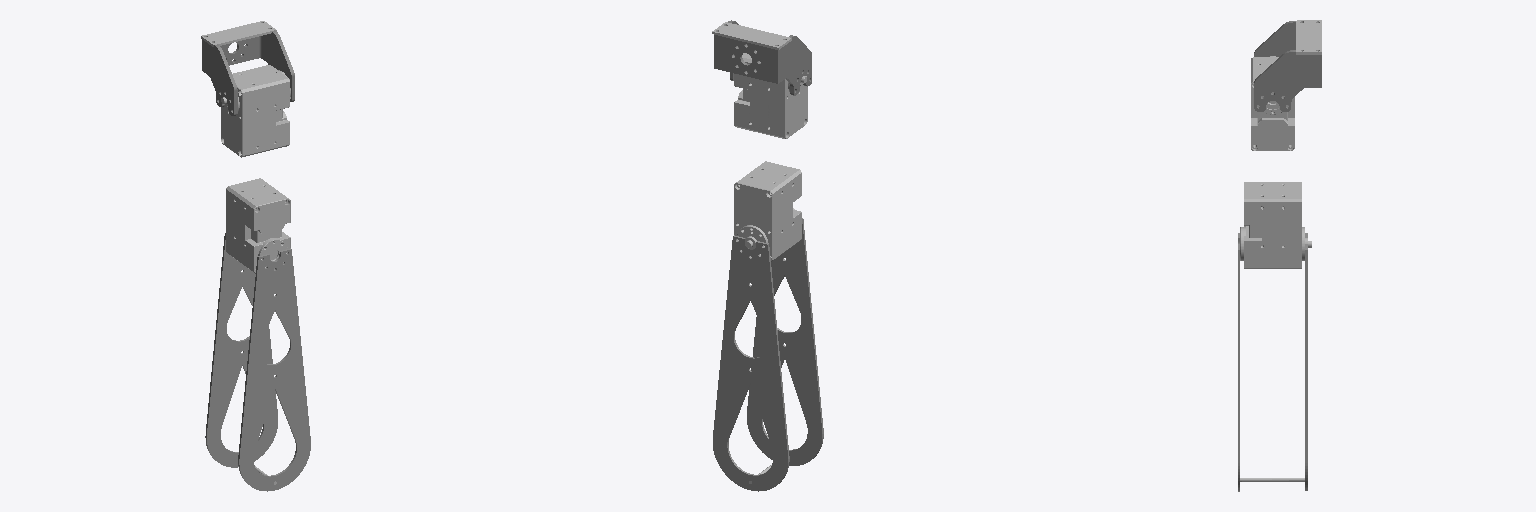
robot.urdf — mujoco_model:
<?xml version="1.0" ?>
<!-- Generated using onshape-to-robot -->
<!-- Onshape https://cad.onshape.com/documents/d1966859336362bc930929a4/w/56b6dcc60dcf28ac3423a25e/e/ef4346ef33e595185f4c45c3 -->
<robot name="mujoco_model">
  <!-- Link xm540 -->
  <link name="xm540">
    <inertial>
      <origin xyz="-0.259602 -0.167365 0.0580926" rpy="0 0 0"/>
      <mass value="0.354226"/>
      <inertia ixx="0.00101465" ixy="1.04493e-08" ixz="4.06372e-05" iyy="0.00102232" iyz="5.21445e-06" izz="9.4737e-05"/>
    </inertial>
    <!-- Part xm540 -->
    <visual>
      <origin xyz="-0.262254 -0.167665 0.127653" rpy="-2.68422e-17 3.21934e-15 -1.56889"/>
      <geometry>
        <mesh filename="assets/xm540.stl"/>
      </geometry>
      <material name="xm540_material">
        <color rgba="0.74902 0.74902 0.74902 1"/>
      </material>
    </visual>
    <collision>
      <origin xyz="-0.262254 -0.167665 0.127653" rpy="-2.68422e-17 3.21934e-15 -1.56889"/>
      <geometry>
        <mesh filename="assets/xm540.stl"/>
      </geometry>
    </collision>
    <!-- Part atom_braco -->
    <visual>
      <origin xyz="-0.240222 -0.184373 -0.020097" rpy="-1.5708 -3.21934e-15 1.57271"/>
      <geometry>
        <mesh filename="assets/atom_braco.stl"/>
      </geometry>
      <material name="atom_braco_material">
        <color rgba="0.627451 0.627451 0.627451 1"/>
      </material>
    </visual>
    <collision>
      <origin xyz="-0.240222 -0.184373 -0.020097" rpy="-1.5708 -3.21934e-15 1.57271"/>
      <geometry>
        <mesh filename="assets/atom_braco.stl"/>
      </geometry>
    </collision>
    <!-- Part xm540_2 -->
    <visual>
      <origin xyz="-0.259841 -0.16766 -0.00334704" rpy="-3.14159 2.68422e-17 0.00190927"/>
      <geometry>
        <mesh filename="assets/xm540.stl"/>
      </geometry>
      <material name="xm540_2_material">
        <color rgba="0.74902 0.74902 0.74902 1"/>
      </material>
    </visual>
    <collision>
      <origin xyz="-0.259841 -0.16766 -0.00334704" rpy="-3.14159 2.68422e-17 0.00190927"/>
      <geometry>
        <mesh filename="assets/xm540.stl"/>
      </geometry>
    </collision>
  </link>
  <!-- Link atom_mao -->
  <link name="atom_mao">
    <inertial>
      <origin xyz="1.50153e-10 -0.103187 0.0245" rpy="0 0 0"/>
      <mass value="0.0784457"/>
      <inertia ixx="0.000306946" ixy="-8.67553e-15" ixz="3.13831e-20" iyy="7.26017e-05" iyz="-7.07273e-20" izz="0.000278326"/>
    </inertial>
    <!-- Part atom_mao_espacador -->
    <visual>
      <origin xyz="1.49013e-10 -0.196 0.051" rpy="3.14159 3.72317e-17 -3.14159"/>
      <geometry>
        <mesh filename="assets/atom_mao_espacador.stl"/>
      </geometry>
      <material name="atom_mao_espacador_material">
        <color rgba="0.74902 0.74902 0.74902 1"/>
      </material>
    </visual>
    <collision>
      <origin xyz="1.49013e-10 -0.196 0.051" rpy="3.14159 3.72317e-17 -3.14159"/>
      <geometry>
        <mesh filename="assets/atom_mao_espacador.stl"/>
      </geometry>
    </collision>
    <!-- Part atom_mao -->
    <visual>
      <origin xyz="0.015 0.0025 -2.77556e-17" rpy="3.14159 -1.33205e-16 -3.14159"/>
      <geometry>
        <mesh filename="assets/atom_mao.stl"/>
      </geometry>
      <material name="atom_mao_material">
        <color rgba="0.627451 0.627451 0.627451 1"/>
      </material>
    </visual>
    <collision>
      <origin xyz="0.015 0.0025 -2.77556e-17" rpy="3.14159 -1.33205e-16 -3.14159"/>
      <geometry>
        <mesh filename="assets/atom_mao.stl"/>
      </geometry>
    </collision>
    <!-- Part atom_mao_2 -->
    <visual>
      <origin xyz="0.015 0.0025 0.051" rpy="-3.14159 4.69895e-17 -3.14159"/>
      <geometry>
        <mesh filename="assets/atom_mao.stl"/>
      </geometry>
      <material name="atom_mao_2_material">
        <color rgba="0.627451 0.627451 0.627451 1"/>
      </material>
    </visual>
    <collision>
      <origin xyz="0.015 0.0025 0.051" rpy="-3.14159 4.69895e-17 -3.14159"/>
      <geometry>
        <mesh filename="assets/atom_mao.stl"/>
      </geometry>
    </collision>
  </link>
  <!-- Joint from xm540 to atom_mao -->
  <joint name="elbow_left" type="revolute">
    <origin xyz="-0.259888 -0.14316 -0.00334704" rpy="1.5708 2.68422e-17 0.00190927"/>
    <parent link="xm540"/>
    <child link="atom_mao"/>
    <axis xyz="0 0 1"/>
    <limit effort="10" velocity="10" lower="-3.141592653589793" upper="3.141592653589793"/>
    <dynamics damping="0.05" friction="0.01"/>
  </joint>
  <!-- Link atom_ombro -->
  <link name="atom_ombro">
    <inertial>
      <origin xyz="-0.0192767 -0.0223552 0.0245697" rpy="0 0 0"/>
      <mass value="0.0432836"/>
      <inertia ixx="2.93499e-05" ixy="-4.5151e-06" ixz="2.42475e-08" iyy="3.21231e-05" iyz="5.32541e-08" izz="1.71846e-05"/>
    </inertial>
    <!-- Part atom_ombro -->
    <visual>
      <origin xyz="-0.036 -0.011 -0.002" rpy="1.5708 8.86061e-19 -3.1925e-15"/>
      <geometry>
        <mesh filename="assets/atom_ombro.stl"/>
      </geometry>
      <material name="atom_ombro_material">
        <color rgba="0.576471 0.576471 0.576471 1"/>
      </material>
    </visual>
    <collision>
      <origin xyz="-0.036 -0.011 -0.002" rpy="1.5708 8.86061e-19 -3.1925e-15"/>
      <geometry>
        <mesh filename="assets/atom_ombro.stl"/>
      </geometry>
    </collision>
    <!-- Part atom_ombro_chapa -->
    <visual>
      <origin xyz="-0.0372843 -0.039 0.0525" rpy="-1.5708 -9.02955e-19 3.14159"/>
      <geometry>
        <mesh filename="assets/atom_ombro_chapa.stl"/>
      </geometry>
      <material name="atom_ombro_chapa_material">
        <color rgba="0.74902 0.74902 0.74902 1"/>
      </material>
    </visual>
    <collision>
      <origin xyz="-0.0372843 -0.039 0.0525" rpy="-1.5708 -9.02955e-19 3.14159"/>
      <geometry>
        <mesh filename="assets/atom_ombro_chapa.stl"/>
      </geometry>
    </collision>
  </link>
  <!-- Joint from xm540 to atom_ombro -->
  <joint name="shoulder_left" type="revolute">
    <origin xyz="-0.286754 -0.167712 0.127653" rpy="-1.5708 3.21934e-15 -1.56889"/>
    <parent link="xm540"/>
    <child link="atom_ombro"/>
    <axis xyz="0 0 1"/>
    <limit effort="10" velocity="10" lower="-3.141592653589793" upper="3.141592653589793"/>
    <dynamics damping="0.05" friction="0.01"/>
  </joint>

  <mujoco>
    <actuator>
      
      <motor name="shoulder_motor"
            joint="shoulder_left"
            gear="50"/>
            
      <motor name="elbow_motor"
            joint="elbow_left"
            gear="50"/>

    </actuator>
  </mujoco>

</robot>

--- Facts derived from the render (not from the file) ---
Views: 3 orthographic renders of the robot side by side, from view 1: azimuth 30°, elevation 25°; view 2: azimuth 150°, elevation 25°; view 3: azimuth 270°, elevation 25°.
Model mujoco_model with 3 links and 2 joints (2 revolute), rooted at xm540, posed every joint at zero.
Links seen in each view (by area): view 1: atom_mao, xm540, atom_ombro; view 2: atom_mao, xm540, atom_ombro; view 3: xm540, atom_ombro, atom_mao.
Link boxes in pixels (x1,y1,x2,y2): atom_mao: (205,233,310,491); xm540: (221,65,290,273); atom_ombro: (201,21,294,115); atom_mao: (713,218,823,491); xm540: (734,51,807,261); atom_ombro: (712,20,811,95); xm540: (1240,56,1311,268); atom_ombro: (1254,20,1321,111); atom_mao: (1238,233,1307,491).
Bounding box of the posed robot: 0.0651 × 0.0639 × 0.3745 m (x, y, z).
Meshes: 6 distinct files referenced, 7 mesh visuals loaded (5 binary STL); not drawn: 1 (reference not matched to a file when rendering).
